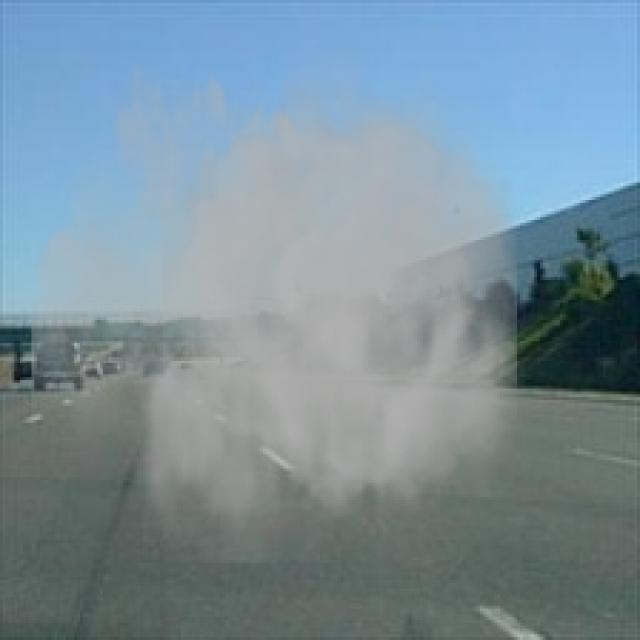Smoke: (31, 11, 548, 563)
